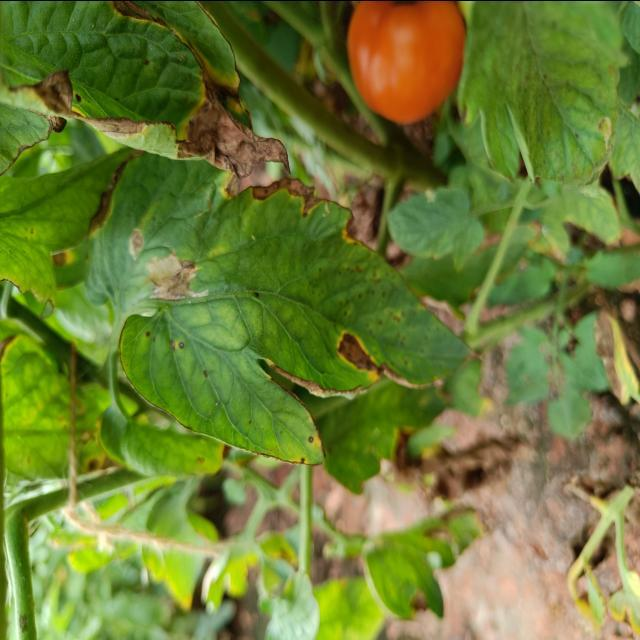Tomato mosaic virus leaf: (233, 174, 486, 408), (2, 0, 298, 182), (111, 308, 335, 474)
